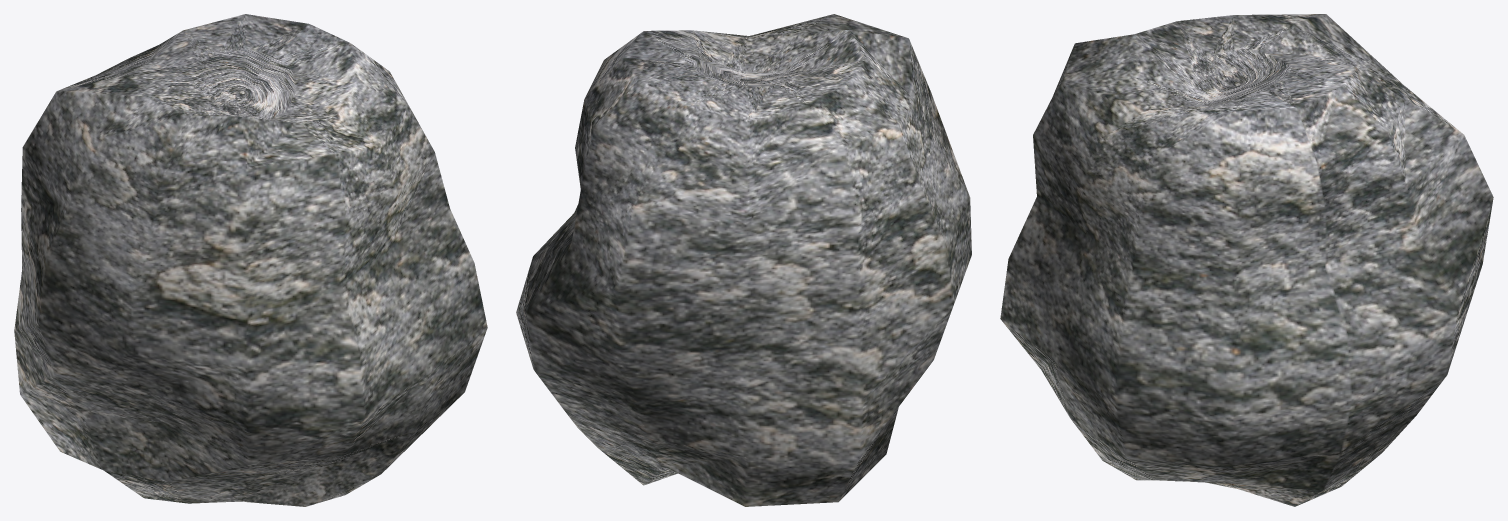
File: Stone.fbx
The picture shows the model from 3 angles, left to right: view 1: azimuth 30°, elevation 25°; view 2: azimuth 150°, elevation 25°; view 3: azimuth 270°, elevation 25°; orthographic projection.
Parts seen in each view (by area): view 1: pSphere1; view 2: pSphere1; view 3: pSphere1.
Part boxes in pixels (x1=…): pSphere1: x1=14, y1=14, x2=487, y2=506; pSphere1: x1=516, y1=14, x2=971, y2=506; pSphere1: x1=1000, y1=14, x2=1493, y2=506.
Size of the model in its own units: 5.7 by 5.5 by 6.06.
